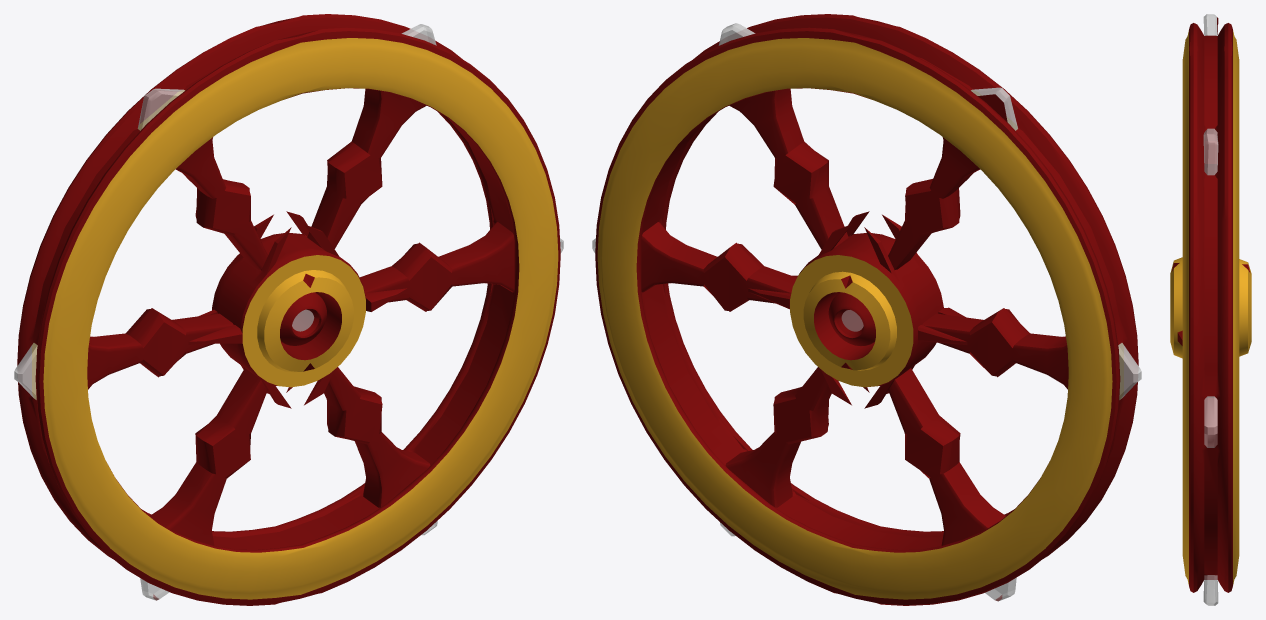
File: WheelMinion.fbx
The picture shows the model from 3 angles, left to right: view 1: azimuth 30°, elevation 25°; view 2: azimuth 150°, elevation 25°; view 3: azimuth 270°, elevation 25°; orthographic projection. The views are drawn at different scales.
Visible parts, largest first — view 1: minion5; view 2: minion5; view 3: minion5.
Boxes of the visible parts, x1=… form: minion5: x1=14, y1=14, x2=563, y2=605; minion5: x1=592, y1=14, x2=1141, y2=605; minion5: x1=1170, y1=14, x2=1251, y2=605.
Size of the model in its own units: 1.46 by 1.44 by 0.2046.
